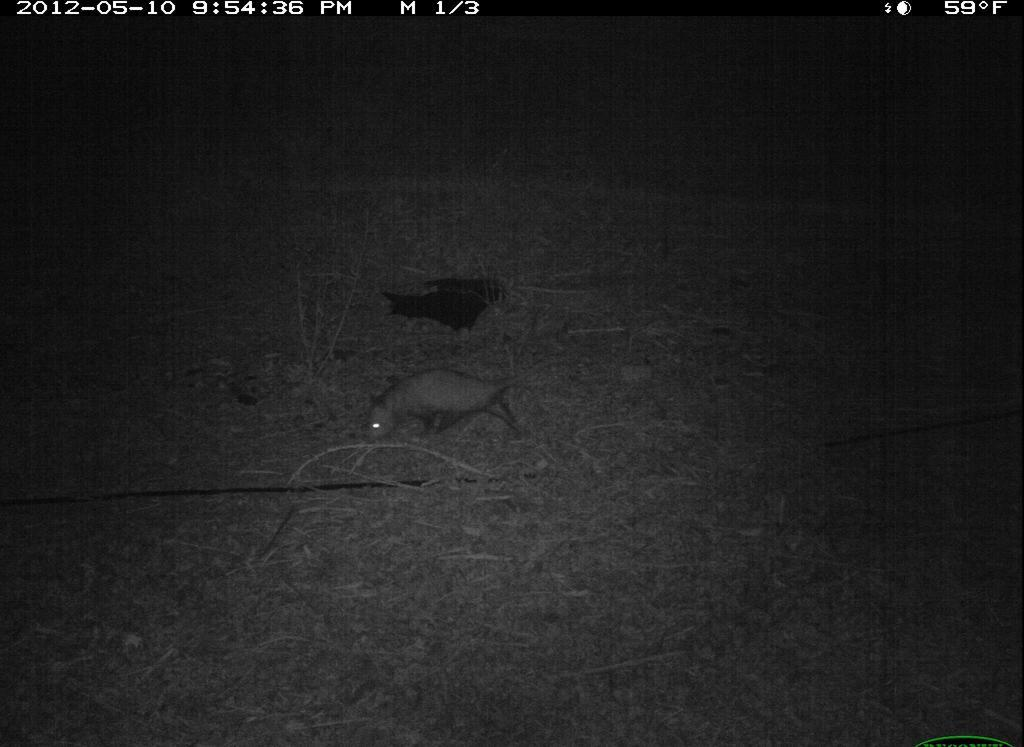opossum: (354, 346, 587, 447)
